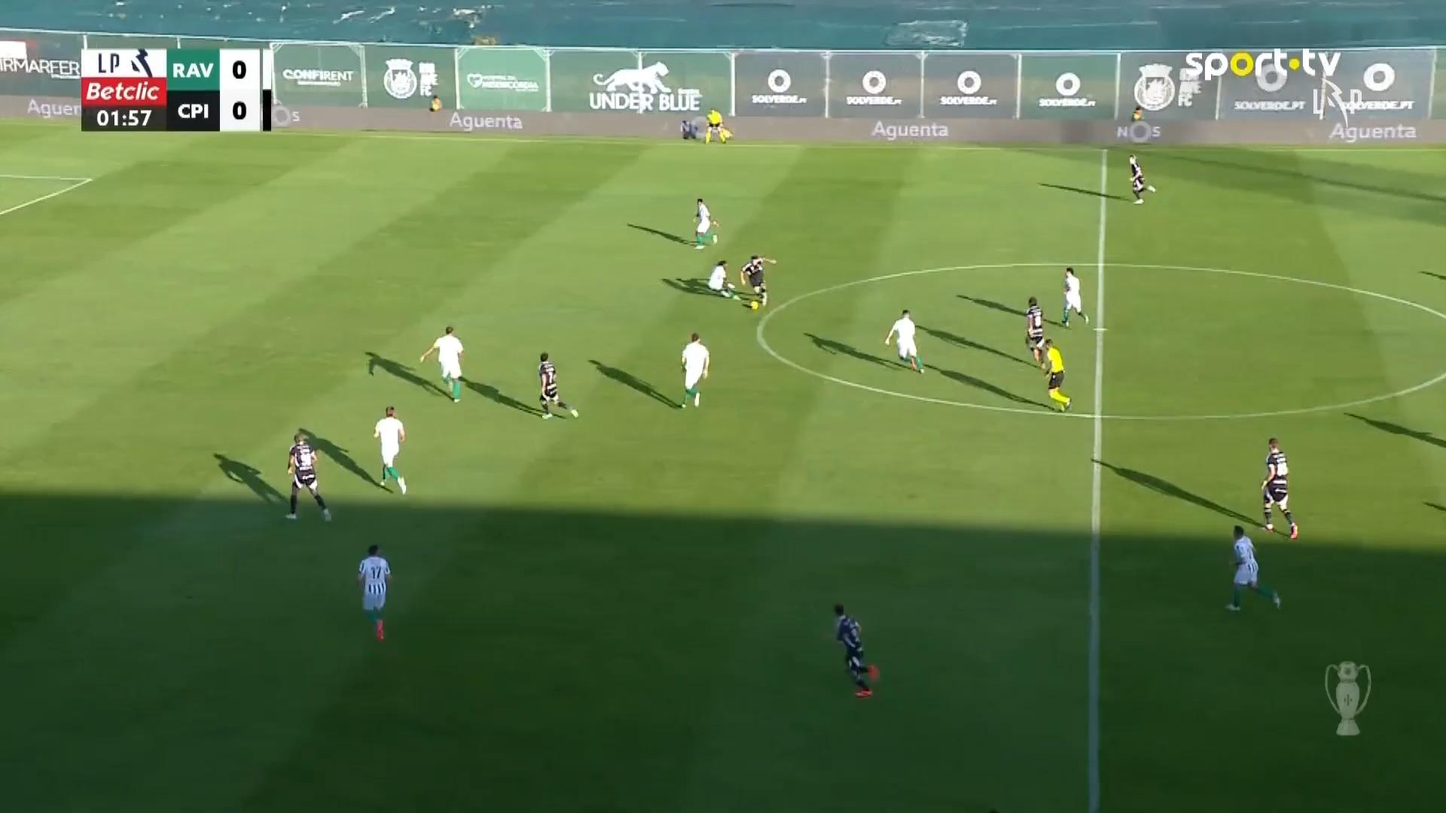ball: (750, 300, 758, 309)
player: (1225, 524, 1280, 611), (832, 602, 877, 697), (285, 432, 331, 521), (1260, 437, 1298, 540), (419, 324, 464, 403), (356, 543, 392, 641), (373, 405, 407, 495), (537, 352, 578, 419), (883, 308, 924, 373), (677, 332, 709, 409), (740, 254, 776, 310), (1059, 266, 1088, 327), (1024, 296, 1046, 366), (1127, 154, 1156, 205), (692, 197, 719, 249), (706, 259, 739, 299)
referee: (1037, 336, 1071, 412), (704, 107, 724, 143)
